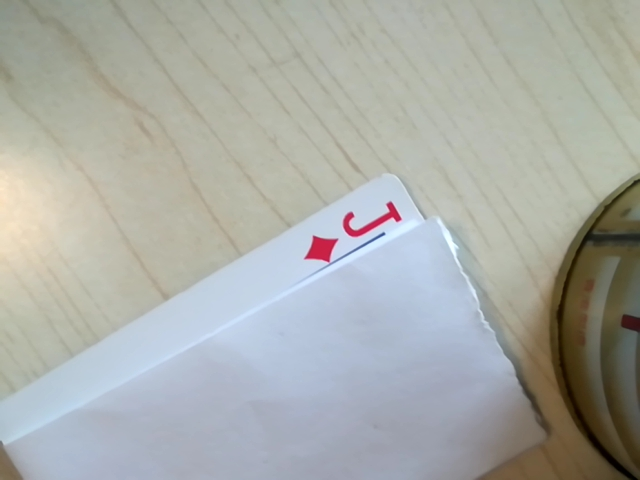fk j: (296, 200, 407, 266)
